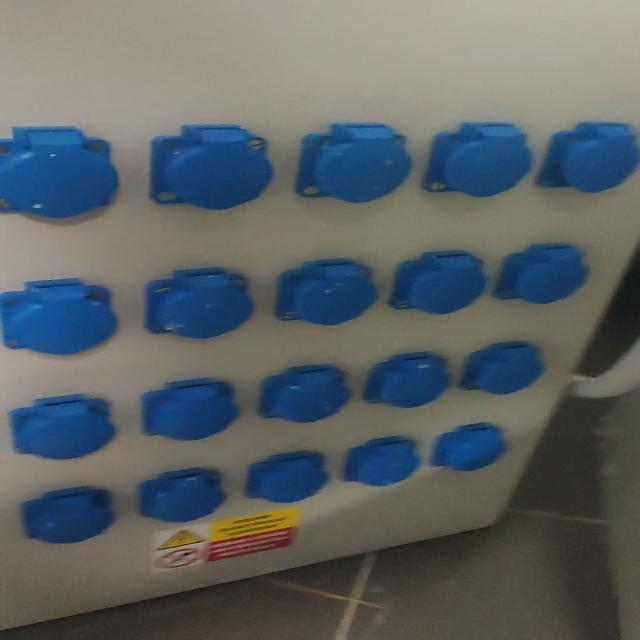house plug covered: (0, 126, 119, 219), (148, 124, 275, 210), (293, 123, 412, 203), (0, 278, 118, 355), (424, 122, 534, 197), (143, 271, 251, 342), (539, 121, 640, 192), (7, 395, 114, 460), (276, 259, 378, 326), (391, 250, 485, 315), (142, 378, 236, 440), (21, 486, 116, 545), (259, 364, 349, 423), (495, 245, 586, 303), (140, 470, 226, 524), (244, 450, 329, 503), (462, 341, 543, 395), (365, 355, 447, 407), (341, 435, 421, 487), (437, 428, 501, 470)
